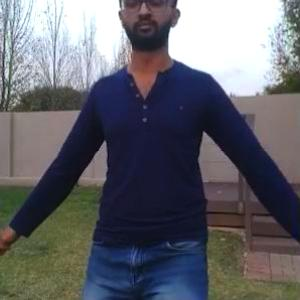land: (18, 7, 299, 299)
